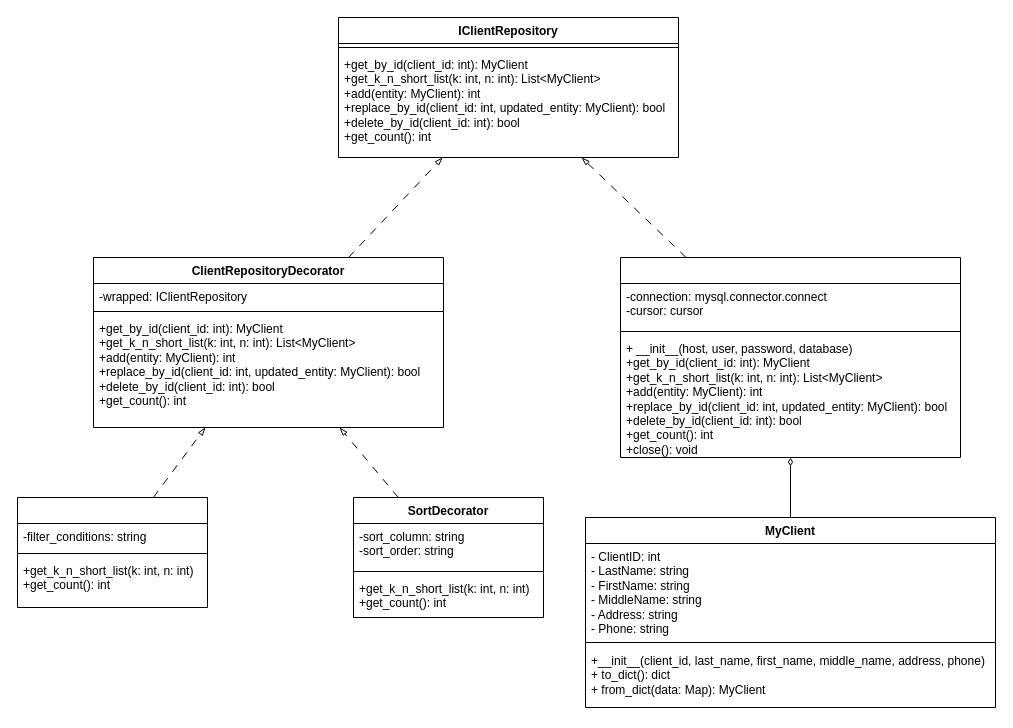
The diagram is 1013 pixels wide and 728 high, and some of its shapes have lost their labels. The shapes that lost their labels are listed below. From the top down, each one's box as (x1, y1, x2, y2) in pixels, then its label:
(620, 256, 960, 458): MyClientRepDB
(16, 496, 208, 608): FilterDecorator
